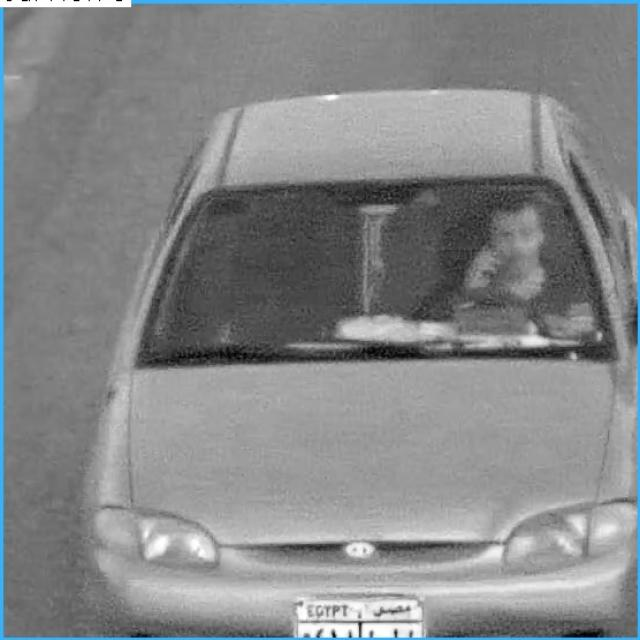windshield: (139, 189, 607, 353)
